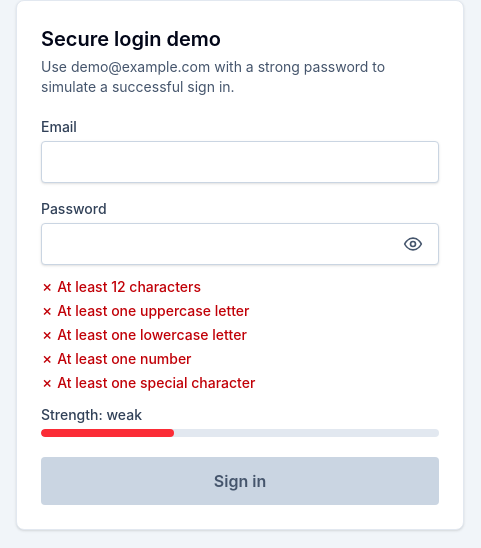
Test case: LoginDemo › enables the submit button when the form is valid
This screenshot has width=481, height=548.
Type "demo@example.com" into the field labelled "Email" at (240, 162), box [41, 141, 439, 183]
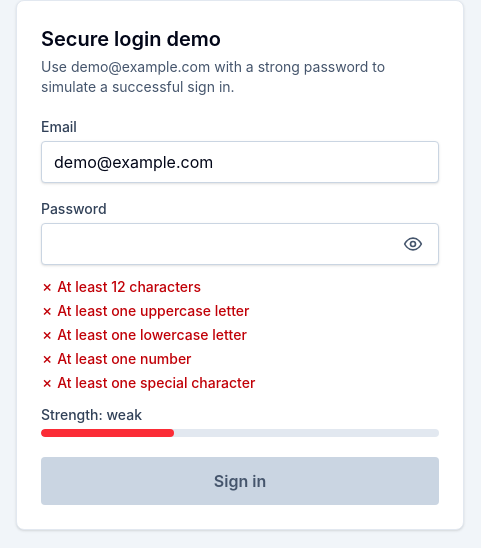
Type "ValidPassword123!" into the password field named "Password" at (240, 244), box [41, 223, 439, 265]
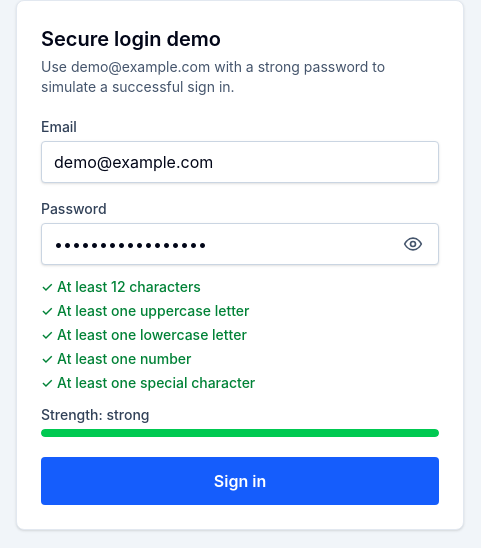
expect the button "Sign in" is enabled: met, box [41, 457, 439, 505]
